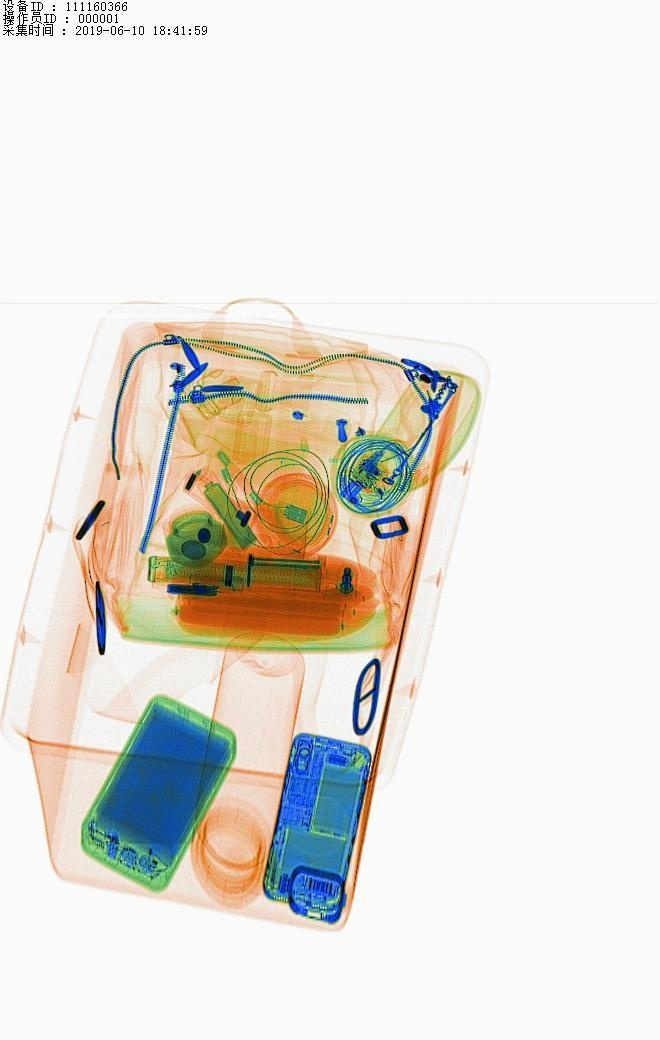NonmetallicFire: (145, 565, 254, 603)
